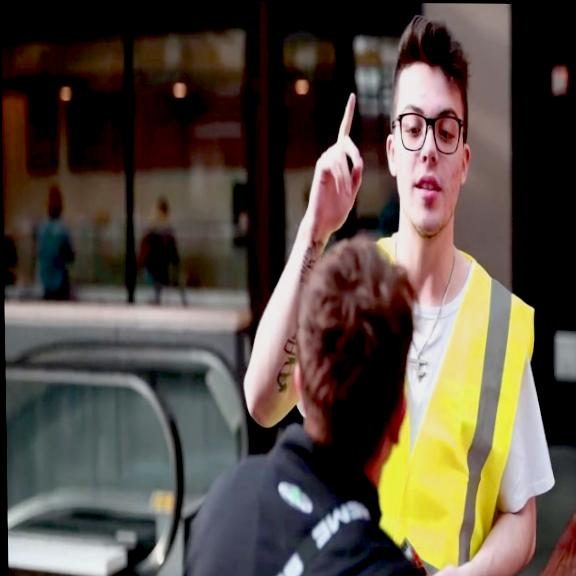safety_vest: (370, 224, 539, 576)
